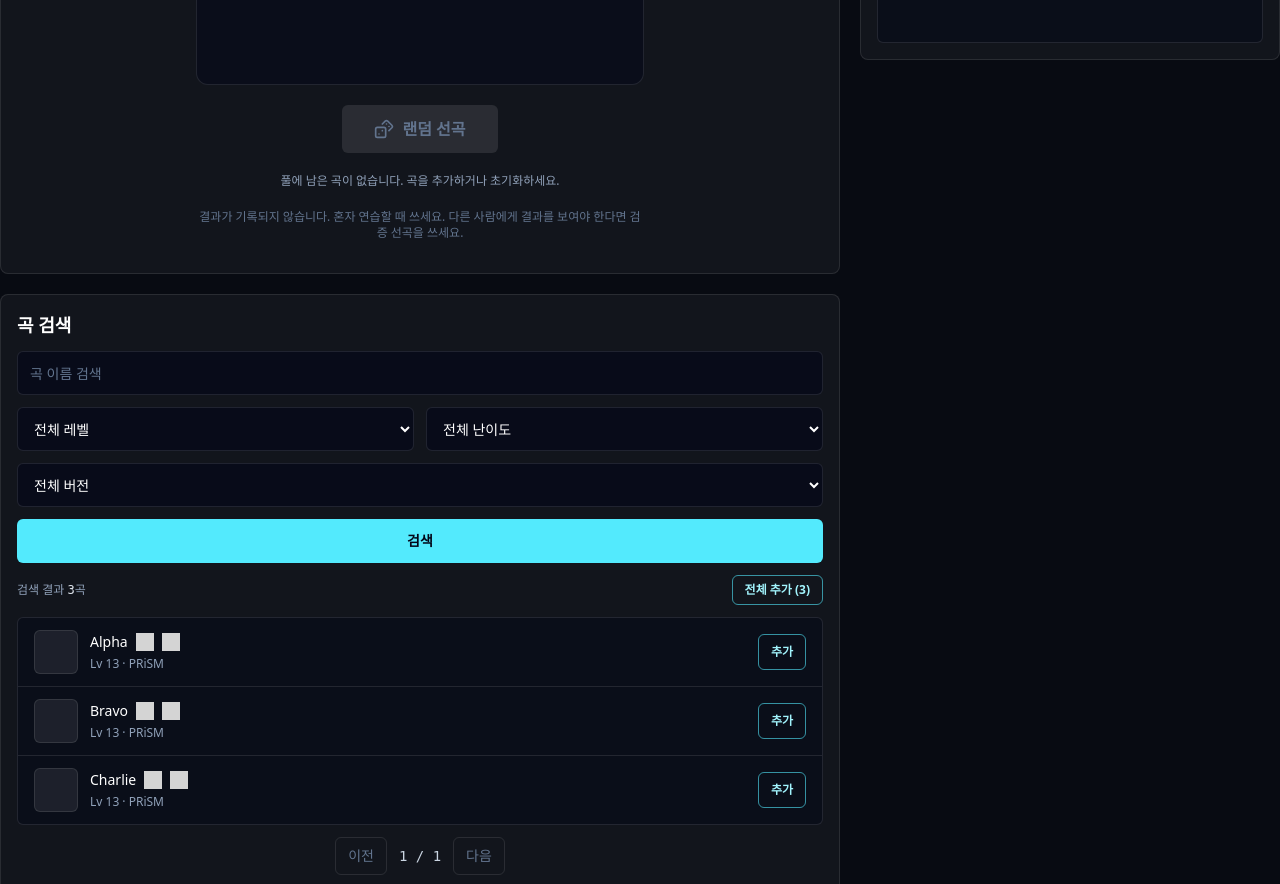
Test: RandomPicker › keeps the unrevealed record so a failed reveal is not re-rolled
The width and height of the screenshot is (1280, 884).
(page scrolled)
Click the button with aria-label "Alpha DX MASTER 풀에 추가". click: (782,652)
box: [758,634,806,670]
(page scrolled)
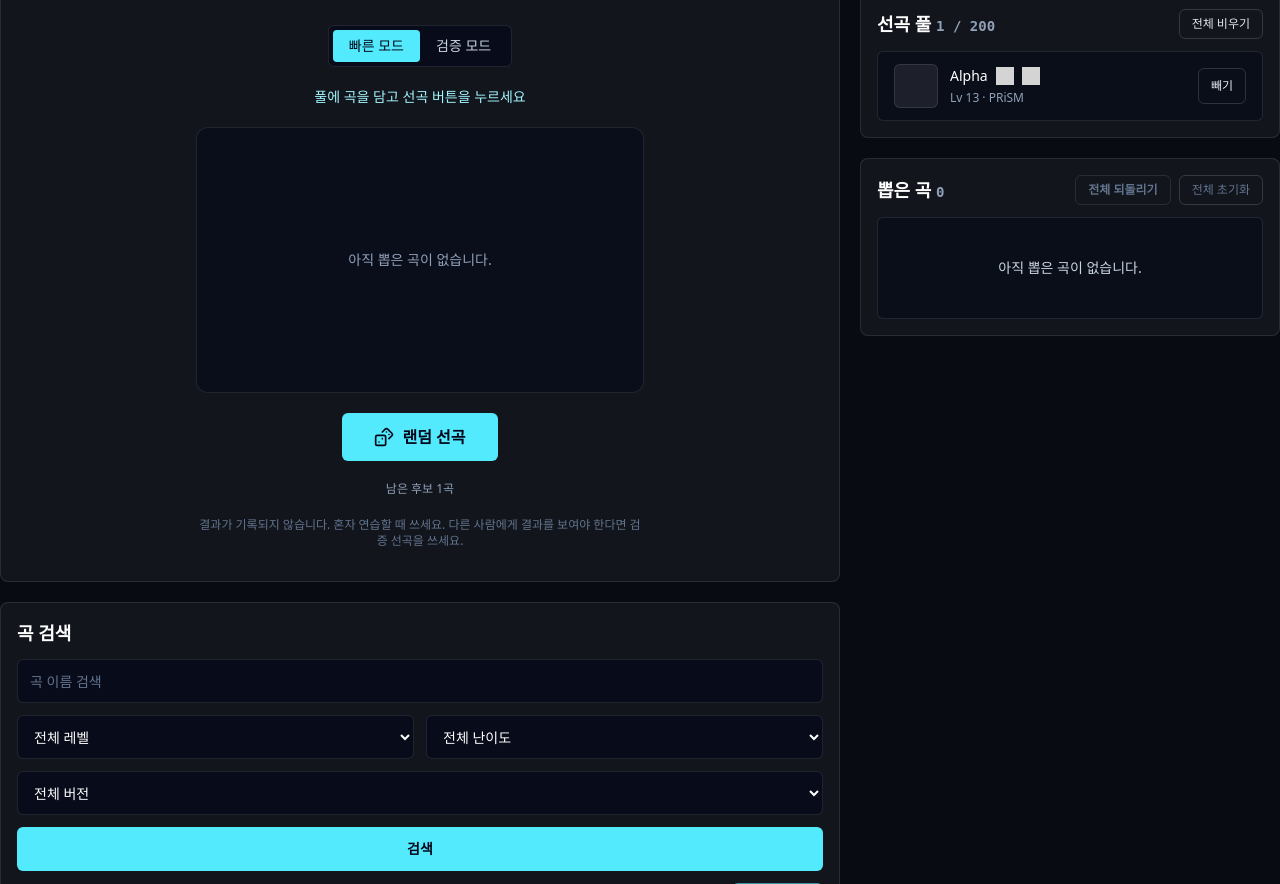
Click the button "검증 모드". click: (464,46)
box: [420,30,507,62]
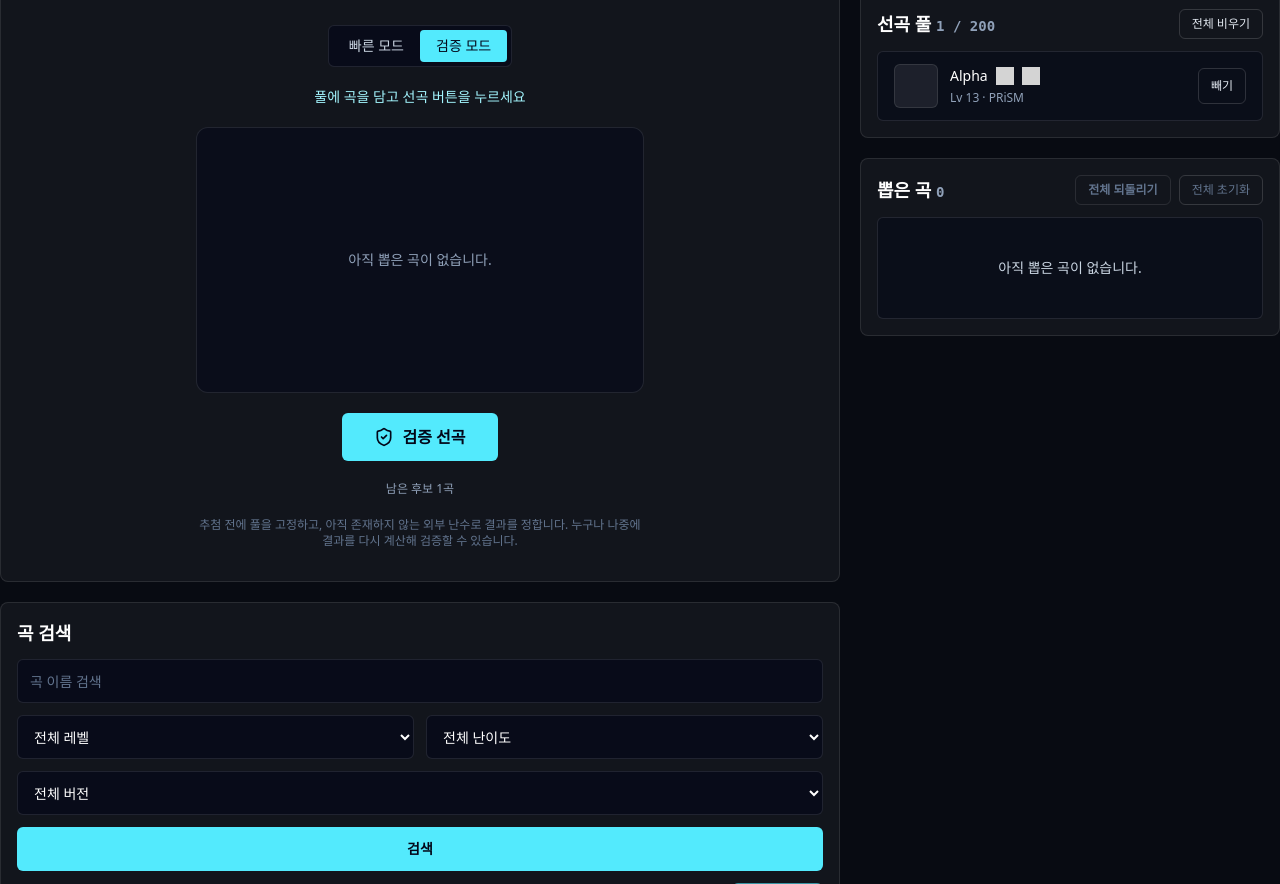
Click the button "검증 선곡". click: (420,437)
box: [342,413,498,461]
Wait 4000 ms
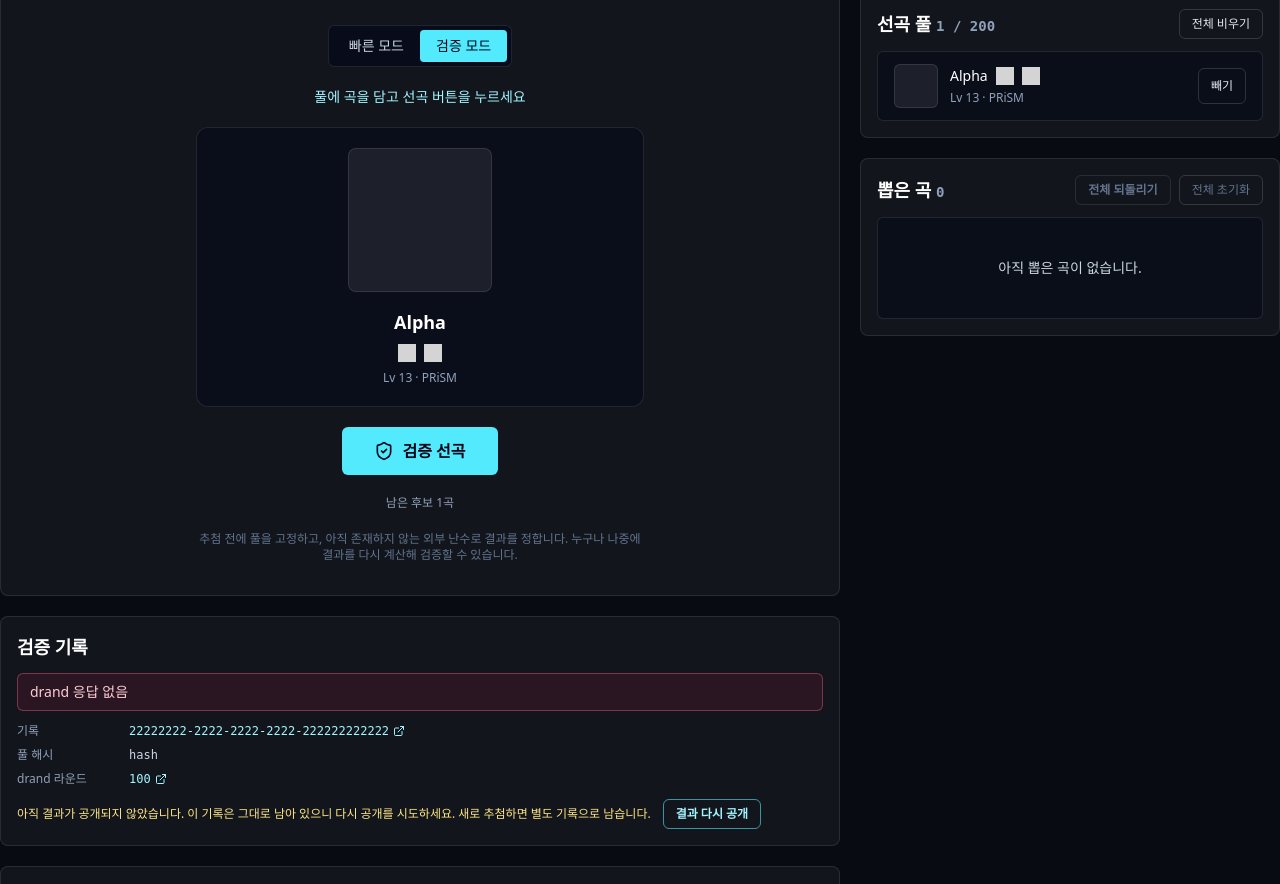
Result: the text "drand 응답 없음" is shown at [17,673,823,711]
Result: the button "결과 다시 공개" is shown at [663,799,761,829]
